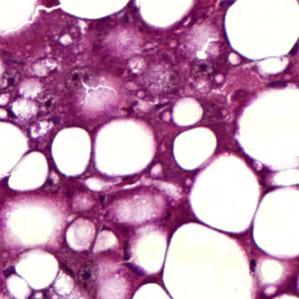steatosis: (95, 121, 157, 174), (50, 126, 96, 178), (170, 126, 216, 173)
